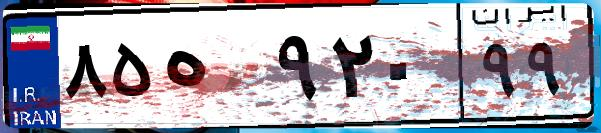0: (385, 28, 445, 110)
2: (330, 28, 385, 110)
5: (110, 28, 158, 98)
8: (57, 26, 110, 100)
9: (270, 28, 330, 110), (475, 38, 525, 113), (525, 38, 570, 115)
ه: (158, 20, 270, 120)
